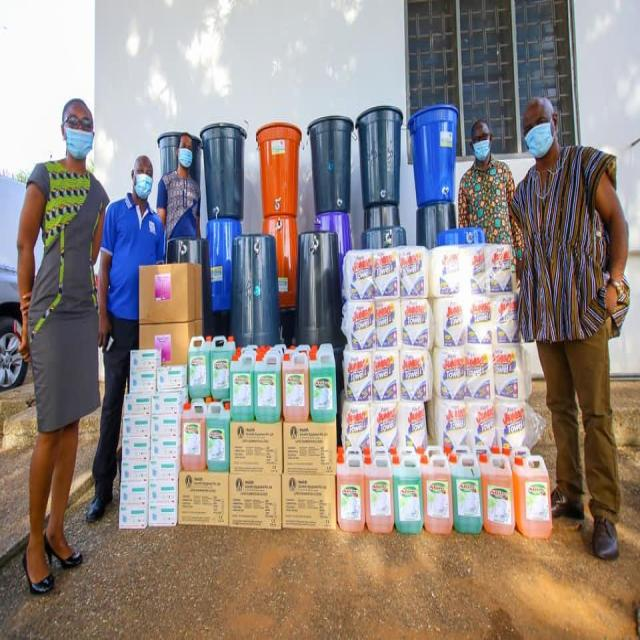Mask: (524, 123, 556, 155), (66, 128, 95, 156), (133, 172, 152, 201), (471, 141, 491, 160), (179, 149, 192, 168)
